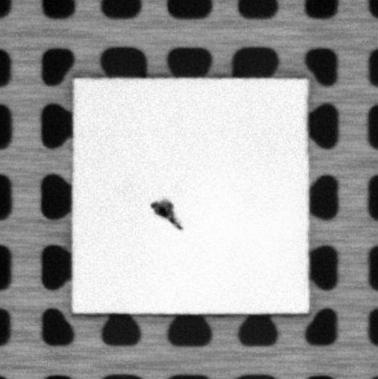DIE_INK: (150, 198, 185, 232)
